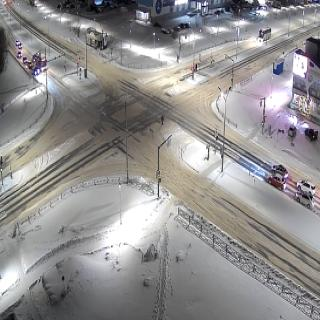large-vehicle: (257, 26, 272, 41), (34, 54, 48, 70)
small-vehicle: (295, 188, 315, 210), (296, 176, 316, 196), (269, 161, 289, 179), (268, 173, 286, 191), (32, 67, 40, 79), (22, 55, 28, 66), (28, 62, 34, 70), (16, 52, 22, 59), (15, 40, 20, 48), (17, 44, 23, 50)
